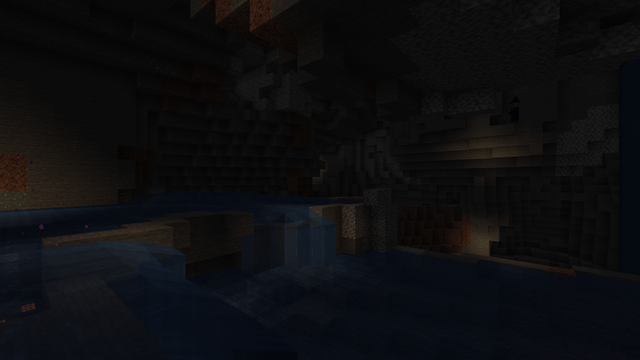sorcieres: (510, 101, 518, 123)
